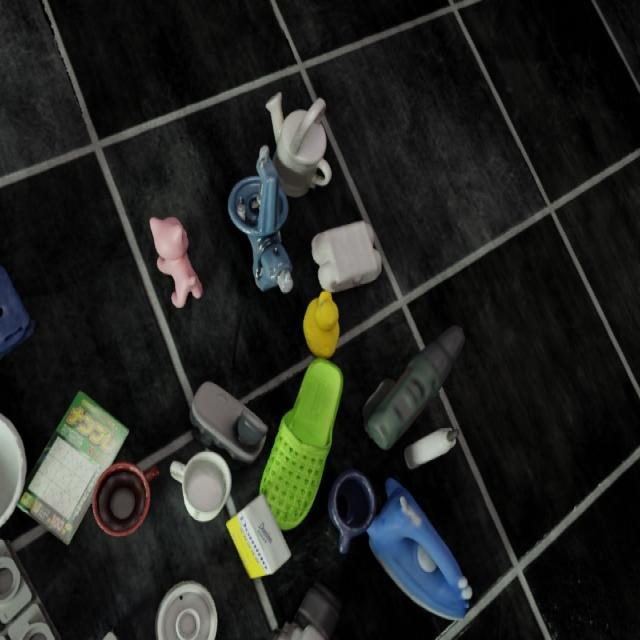Other Objects: (266, 93, 331, 197), (190, 381, 267, 461), (226, 495, 290, 579), (312, 220, 381, 292), (149, 217, 202, 308), (92, 463, 157, 536), (171, 451, 231, 521), (328, 471, 376, 553), (156, 581, 217, 639), (0, 413, 26, 527), (303, 291, 339, 357), (404, 428, 457, 468)
